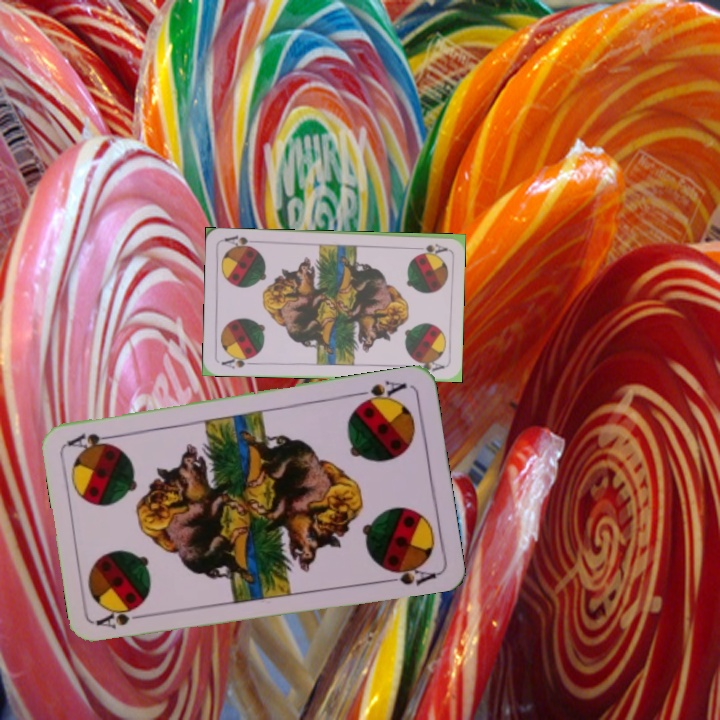SA: (351, 376, 409, 408), (93, 603, 152, 632), (218, 352, 258, 371), (408, 240, 449, 256)
